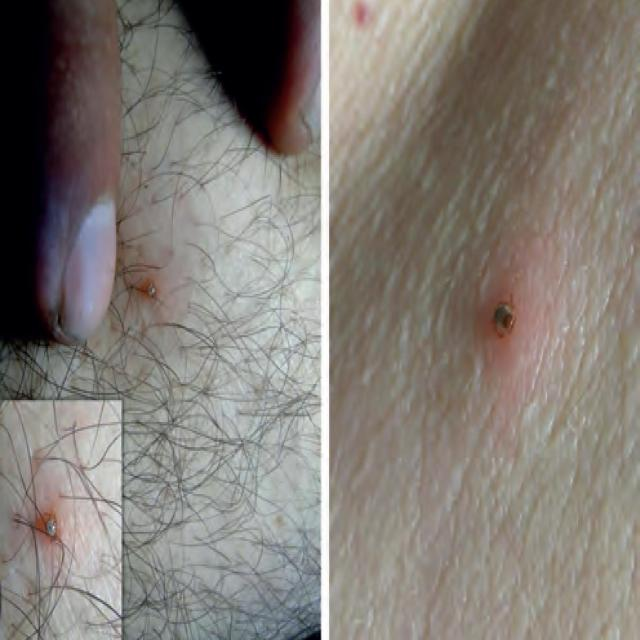kene: (473, 277, 537, 367), (31, 499, 70, 556), (136, 268, 172, 313)
